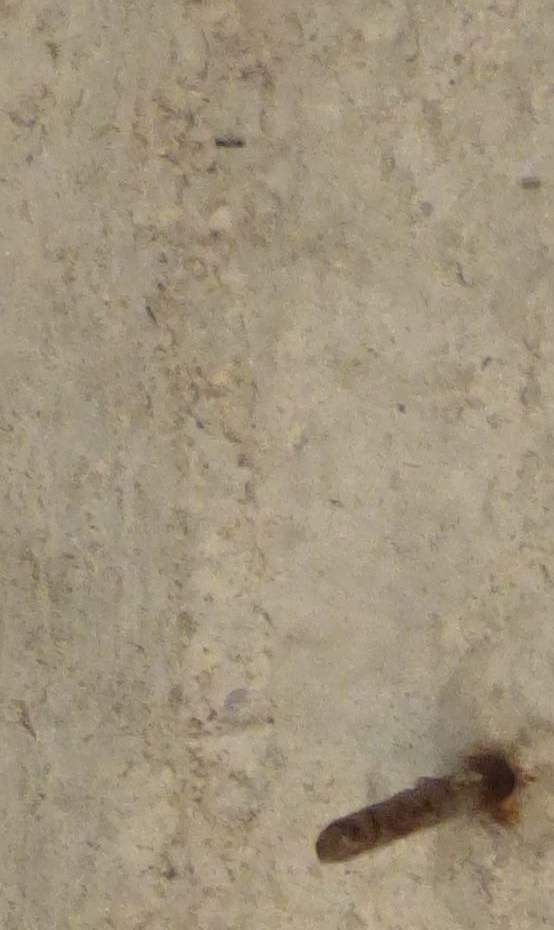Exposed reinforcement: (315, 761, 509, 864)
